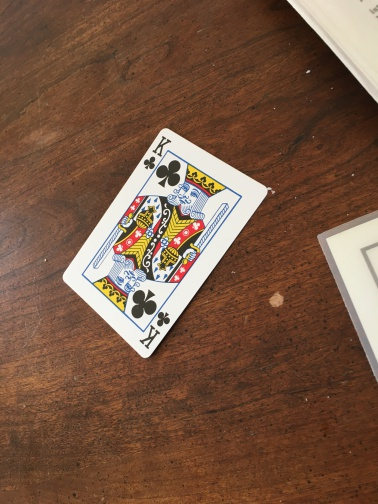king: (62, 126, 269, 361)
